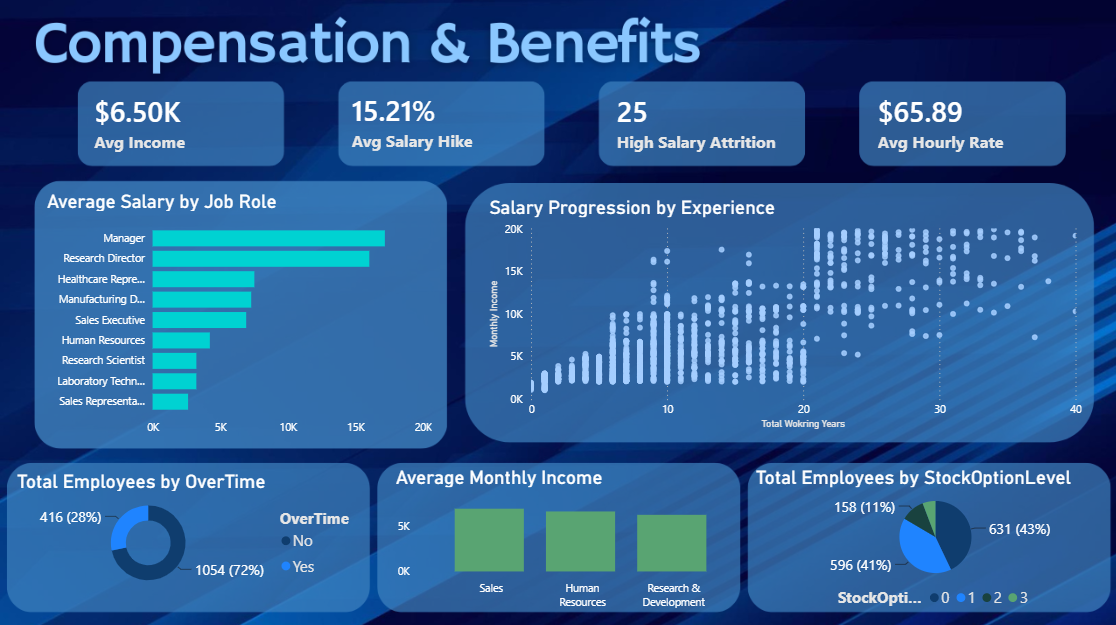

Layout of this report page (visuals, bound fields, positions):
{"tool":"powerbi","page":{"name":"Compensation","canvas":[1280,720],"ordinal":2},"visuals":[{"type":"cardVisual","fields":{"Data":["ibm_data dim_employee.Avg Income"]},"box":[78.6,0,280,280],"z":0},{"type":"cardVisual","fields":{"Data":["ibm_data dim_employee.High Salary Attrition"]},"box":[675.7,0,280,280],"z":1000},{"type":"cardVisual","fields":{"Data":["ibm_data dim_employee.Avg Salary Hike"]},"box":[372.9,62.9,280,150],"z":2000},{"type":"cardVisual","fields":{"Data":["ibm_data dim_employee.Avg Hourly Rate"]},"box":[974.3,64.3,280,150],"z":3000},{"type":"scatterChart","title":"Salary Progression by Experience","fields":{"X":["Sum(ibm_data fact_tenure.TotalWorkingYears)"],"Y":["Sum(ibm_data fact_compensation.MonthlyIncome)"],"Category":["ibm_data fact_compensation.EmployeeNumber"]},"box":[554.3,224.3,687.1,271.4],"z":4000},{"type":"clusteredBarChart","title":"Average Salary by Job Role","fields":{"Category":["ibm_data dim_job_role.JobRole"],"Y":["Avg(ibm_data fact_compensation.MonthlyIncome)"]},"box":[48.6,217.1,450,290],"z":5000},{"type":"donutChart","fields":{"Category":["ibm_data fact_compensation.OverTime"],"Y":["ibm_data dim_employee.Total Employees"]},"box":[14.3,537.1,408.6,142.9],"z":6000},{"type":"clusteredColumnChart","title":"Average Monthly Income ","fields":{"Category":["ibm_data dim_job_role.Department"],"Y":["Avg(ibm_data fact_compensation.MonthlyIncome)"]},"box":[447.1,532.9,411.4,171.4],"z":7000},{"type":"pieChart","fields":{"Category":["ibm_data fact_compensation.StockOptionLevel"],"Y":["ibm_data dim_employee.Total Employees"]},"box":[858.6,532.9,421.4,171.4],"z":8000}]}

Visuals, with their boxes in screenshot pixels (x1, y1, x2, y2), scaled from the page's 1280x720 canvas onto the 1116x625 screenshot:
cardVisual - ibm_data dim_employee.Avg Income: box(69, 0, 313, 243)
cardVisual - ibm_data dim_employee.High Salary Attrition: box(589, 0, 833, 243)
cardVisual - ibm_data dim_employee.Avg Salary Hike: box(325, 55, 569, 185)
cardVisual - ibm_data dim_employee.Avg Hourly Rate: box(849, 56, 1094, 186)
"Salary Progression by Experience" scatterChart: box(483, 195, 1082, 430)
"Average Salary by Job Role" clusteredBarChart: box(42, 188, 435, 440)
donutChart - ibm_data fact_compensation.OverTime x ibm_data dim_employee.Total Employees: box(12, 466, 369, 590)
"Average Monthly Income " clusteredColumnChart: box(390, 463, 749, 611)
pieChart - ibm_data fact_compensation.StockOptionLevel x ibm_data dim_employee.Total Employees: box(749, 463, 1115, 611)
